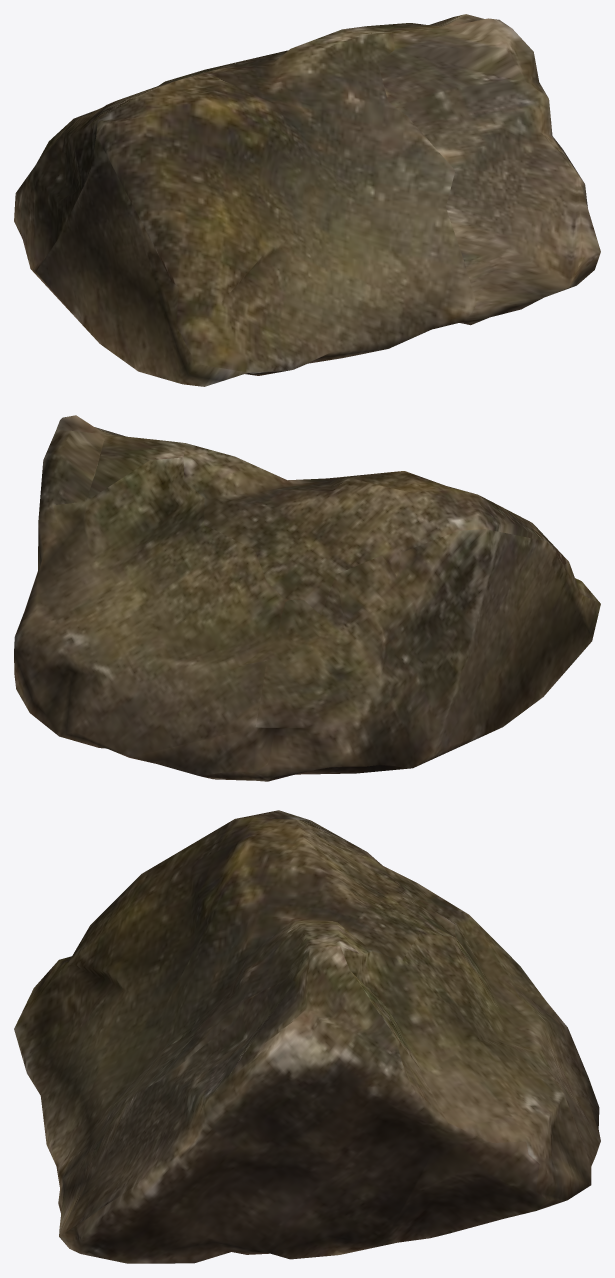
Rendered from ph_rock2.glb.
3 views of the same model, one above another, from view 1: azimuth 30°, elevation 25°; view 2: azimuth 150°, elevation 25°; view 3: azimuth 270°, elevation 25° (orthographic). The views are drawn at different scales.
Parts seen in each view (by area): view 1: rock_moss_set_01_rock03; view 2: rock_moss_set_01_rock03; view 3: rock_moss_set_01_rock03.
Boxes of the visible parts, x1,y1,x2,y2 form: rock_moss_set_01_rock03: (14,14,600,386); rock_moss_set_01_rock03: (14,415,600,781); rock_moss_set_01_rock03: (14,810,600,1263).
Bounding box in the file's own units: 2.1 × 1.09 × 2.08.
1 material, 1 textured.
